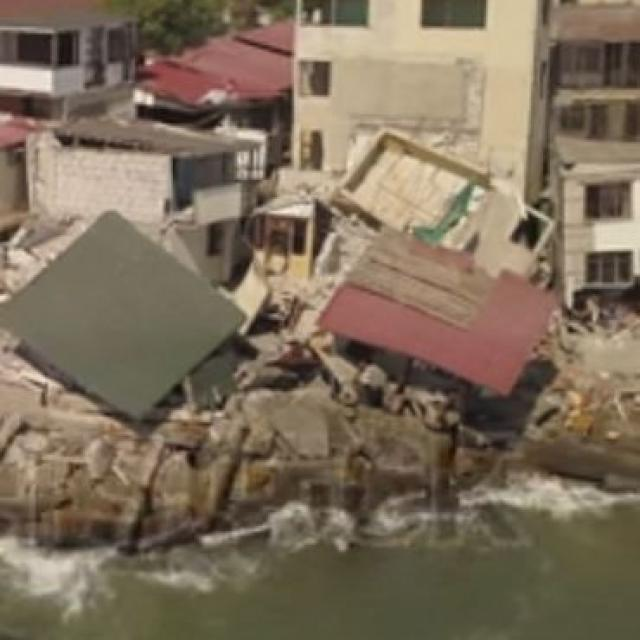collapsed_building: (244, 159, 559, 450)
